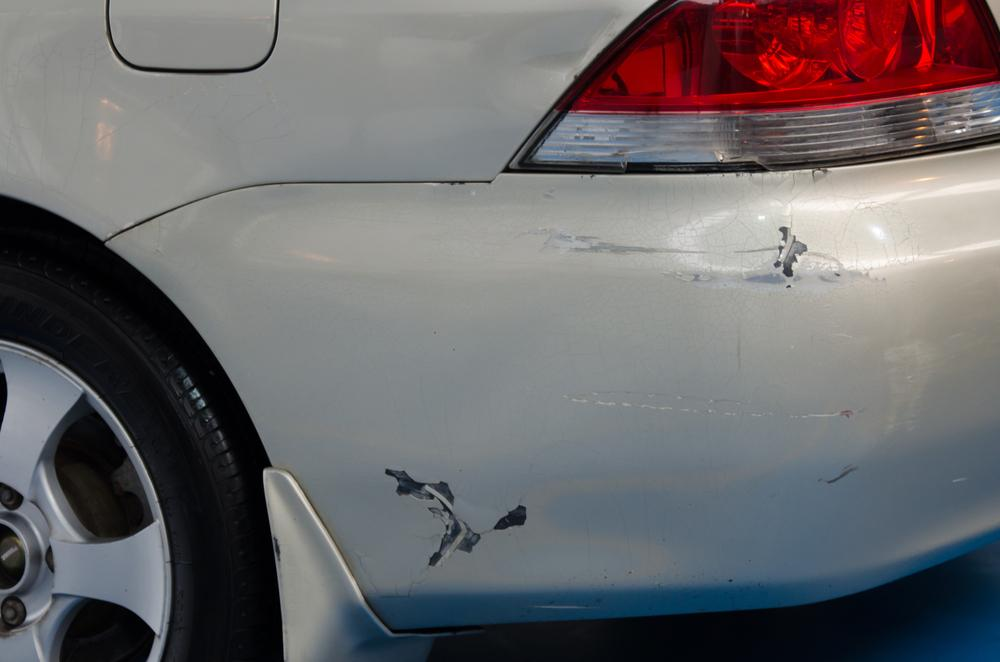lamp broken: (505, 0, 1000, 174)
scratch: (545, 209, 893, 292), (379, 468, 531, 573)
